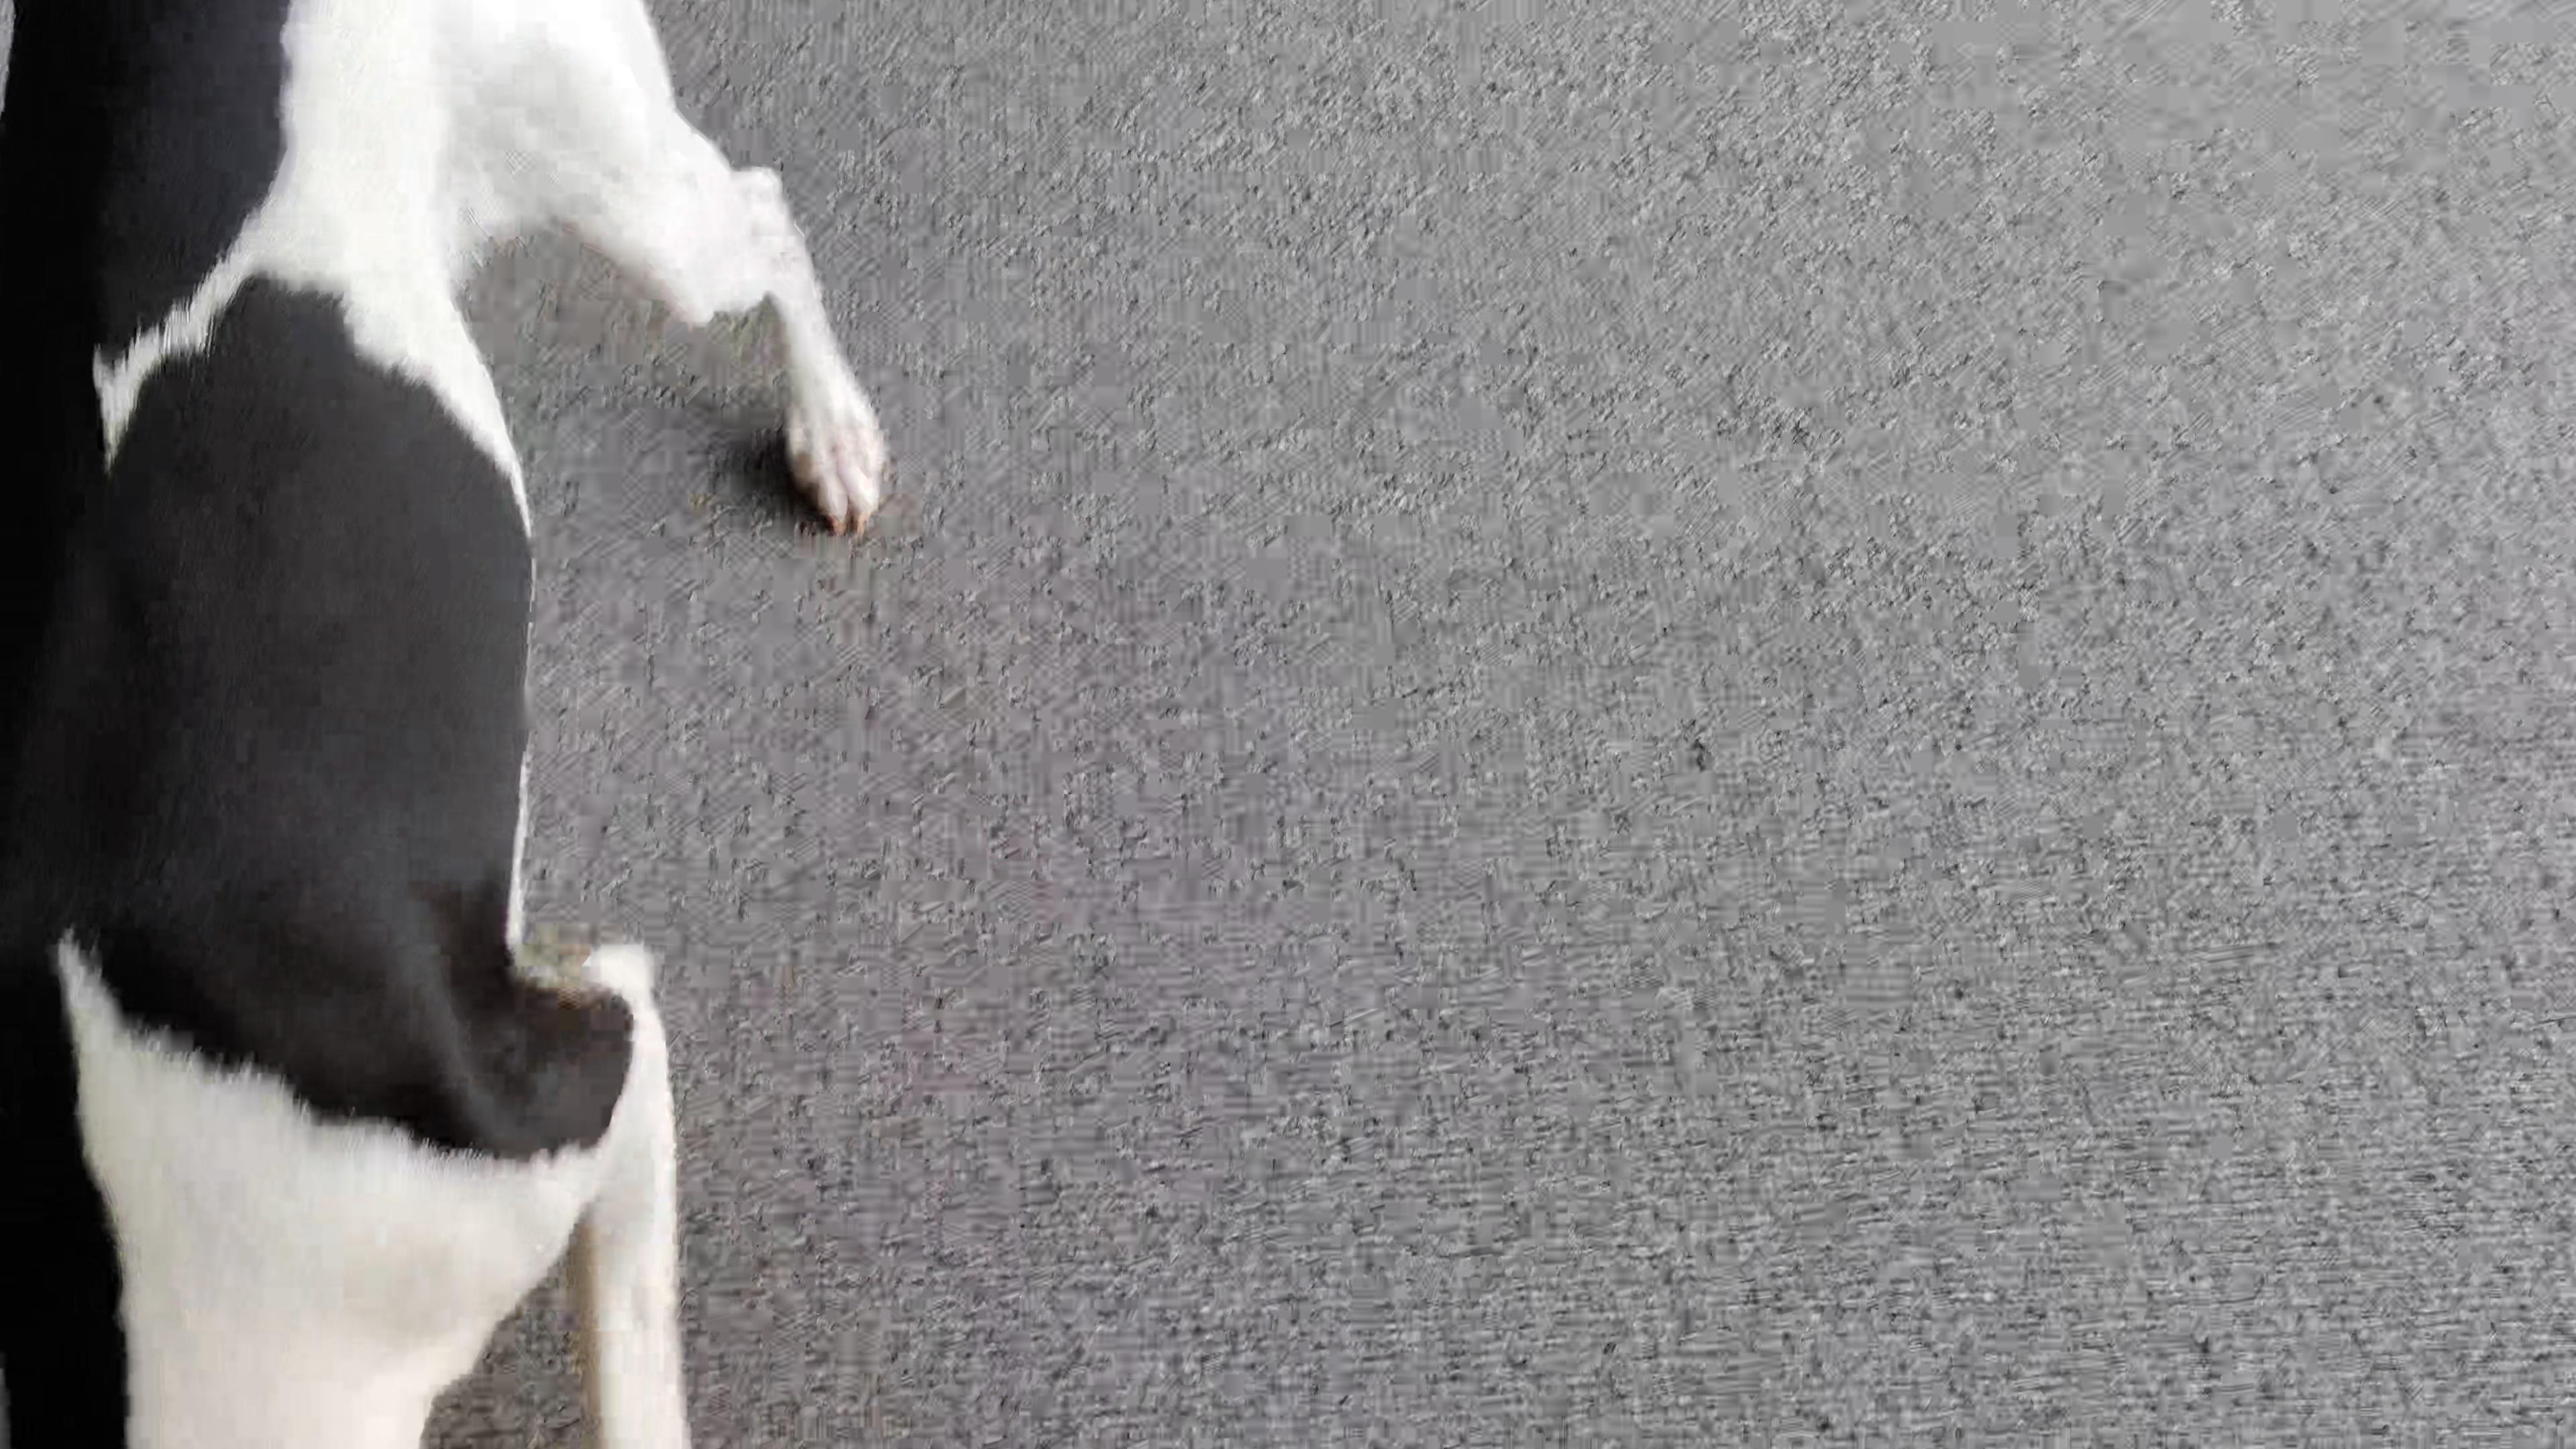Dog: (0, 0, 895, 1449)
